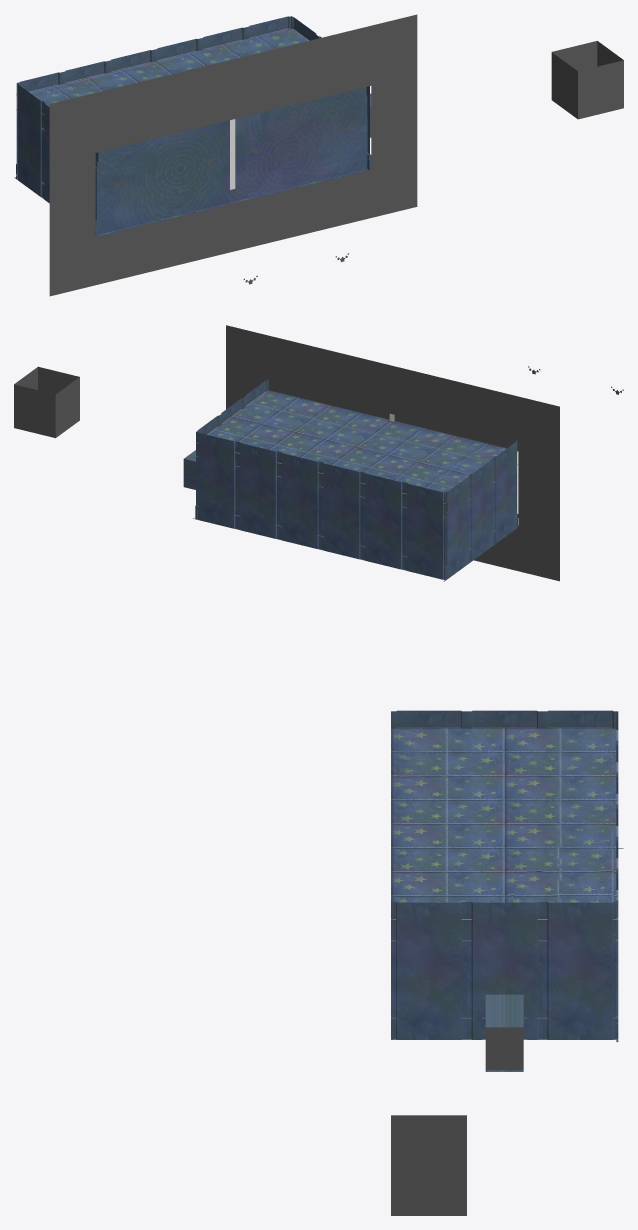
File: las_15_bake.dae
3 renders of one model, top to bottom at view 1: azimuth 30°, elevation 25°; view 2: azimuth 150°, elevation 25°; view 3: azimuth 270°, elevation 25°, orthographic. The views are drawn at different scales.
Parts seen in each view (by area): view 1: polySurface387, pCube4_q00013, pCube1_q00011, pCube1_q00055, polySurface216_q00002, pCube3_q00048, w_bero_1, pCube3_q00049, pCube3_q00026, pCube1_q00056, pCube3_q00027, pCube3_q00025 (+4 smaller); view 2: polySurface387, pCube1_q00055, pCube1_q00011, pCube3_q00027, pCube3_q00022, pCube3_q00026, pCube3_q00024, pCube3_q00025, pCube3_q00023, polySurface216_q00002, pCube3_q00050, pCube3_q00049 (+3 smaller); view 3: pCube1_q00055, pCube3_q00037, pCube3_q00036, pCube3_q00038, pCube1_q00011, polySurface216_q00002, w_bero_1, polySurface204_q00000, pCube3_q00049, pCube3_q00050, pCube3_q00048, pCube3_q00007.
Boxes of the visible parts, bbox=[...] form: polySurface387: bbox=[49, 14, 417, 296]; pCube4_q00013: bbox=[96, 87, 367, 234]; pCube1_q00011: bbox=[30, 29, 305, 106]; pCube1_q00055: bbox=[16, 28, 309, 115]; polySurface216_q00002: bbox=[552, 41, 623, 119]; pCube3_q00048: bbox=[14, 82, 43, 197]; w_bero_1: bbox=[551, 52, 577, 118]; pCube3_q00049: bbox=[41, 102, 49, 203]; pCube3_q00026: bbox=[16, 72, 62, 164]; pCube1_q00056: bbox=[43, 169, 368, 236]; pCube3_q00027: bbox=[200, 27, 246, 50]; pCube3_q00025: bbox=[62, 61, 108, 83]; polySurface387: bbox=[226, 325, 559, 581]; pCube1_q00055: bbox=[196, 390, 517, 503]; pCube1_q00011: bbox=[252, 392, 504, 491]; pCube3_q00027: bbox=[234, 442, 279, 539]; pCube3_q00022: bbox=[276, 452, 321, 549]; pCube3_q00026: bbox=[402, 482, 446, 579]; pCube3_q00024: bbox=[318, 462, 362, 559]; pCube3_q00025: bbox=[360, 472, 404, 569]; pCube3_q00023: bbox=[193, 431, 237, 528]; polySurface216_q00002: bbox=[14, 366, 79, 437]; pCube3_q00050: bbox=[492, 440, 517, 546]; pCube3_q00049: bbox=[469, 458, 492, 562]; pCube1_q00055: bbox=[391, 727, 618, 919]; pCube3_q00037: bbox=[391, 902, 466, 1039]; pCube3_q00036: bbox=[537, 902, 616, 1039]; pCube3_q00038: bbox=[462, 902, 542, 1071]; pCube1_q00011: bbox=[396, 729, 613, 902]; polySurface216_q00002: bbox=[391, 1147, 466, 1215]; w_bero_1: bbox=[391, 1115, 466, 1147]; polySurface204_q00000: bbox=[485, 1027, 523, 1070]; pCube3_q00049: bbox=[467, 710, 542, 728]; pCube3_q00050: bbox=[391, 710, 466, 728]; pCube3_q00048: bbox=[542, 710, 623, 848]; pCube3_q00007: bbox=[486, 994, 522, 1027].
Bounding box in the file's own units: 125 × 40 × 80.55.
